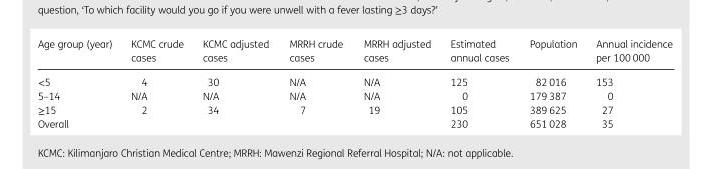table: (36, 37, 671, 129)
table column: (352, 37, 439, 129), (192, 37, 278, 129), (585, 37, 671, 129), (36, 37, 120, 129), (439, 37, 518, 129), (278, 37, 352, 129), (120, 37, 192, 129), (518, 37, 585, 129)
table column header: (36, 37, 671, 69)
table row: (36, 37, 671, 69), (36, 69, 671, 88), (36, 88, 671, 102), (36, 102, 671, 116), (36, 116, 671, 129)
